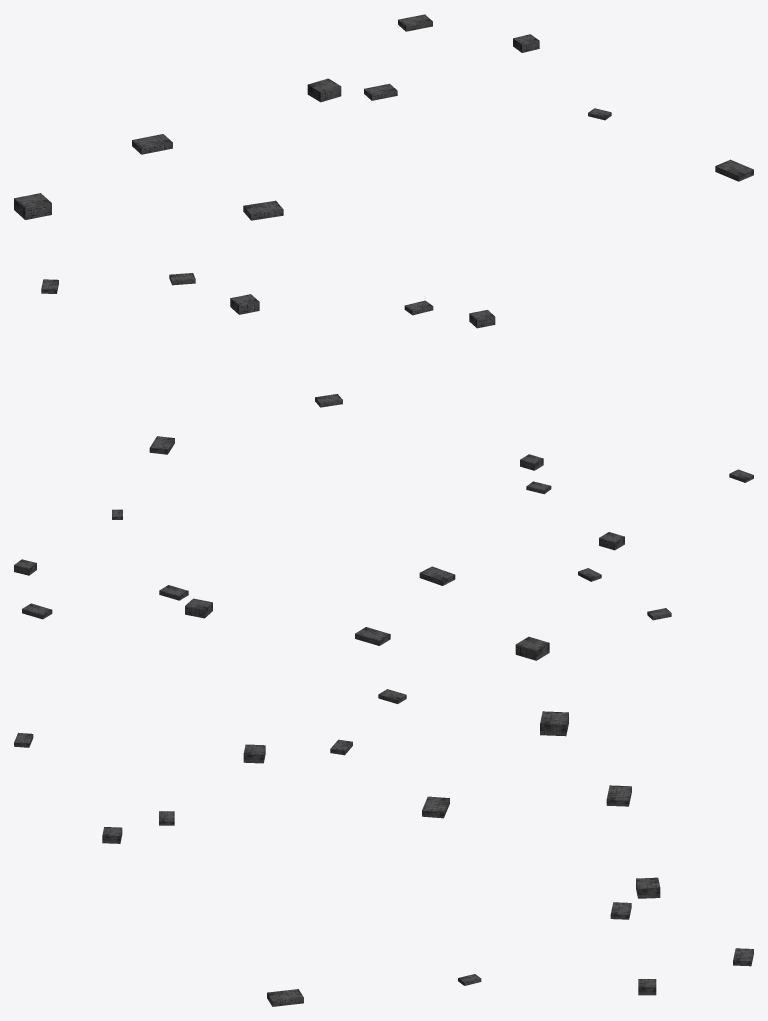
File: HouseGrounds.FBX
3 renders of one model, top to bottom at view 1: azimuth 30°, elevation 25°; view 2: azimuth 150°, elevation 25°; view 3: azimuth 270°, elevation 25°, orthographic. The views are drawn at different scales.
Parts seen in each view (by area): view 1: Box1724; view 2: Box1724; view 3: Box1724.
Boxes of the visible parts, box(x1,y1,x2,y2) form: Box1724: box(14, 14, 753, 407); Box1724: box(14, 436, 753, 660); Box1724: box(14, 689, 753, 1006).
Size of the model in its own units: 9045 by 174 by 8980.
